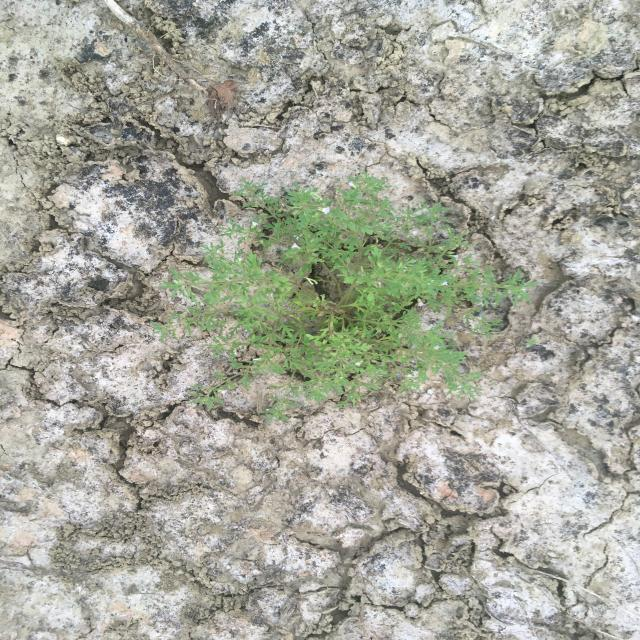Ragweed: (149, 170, 541, 424)
